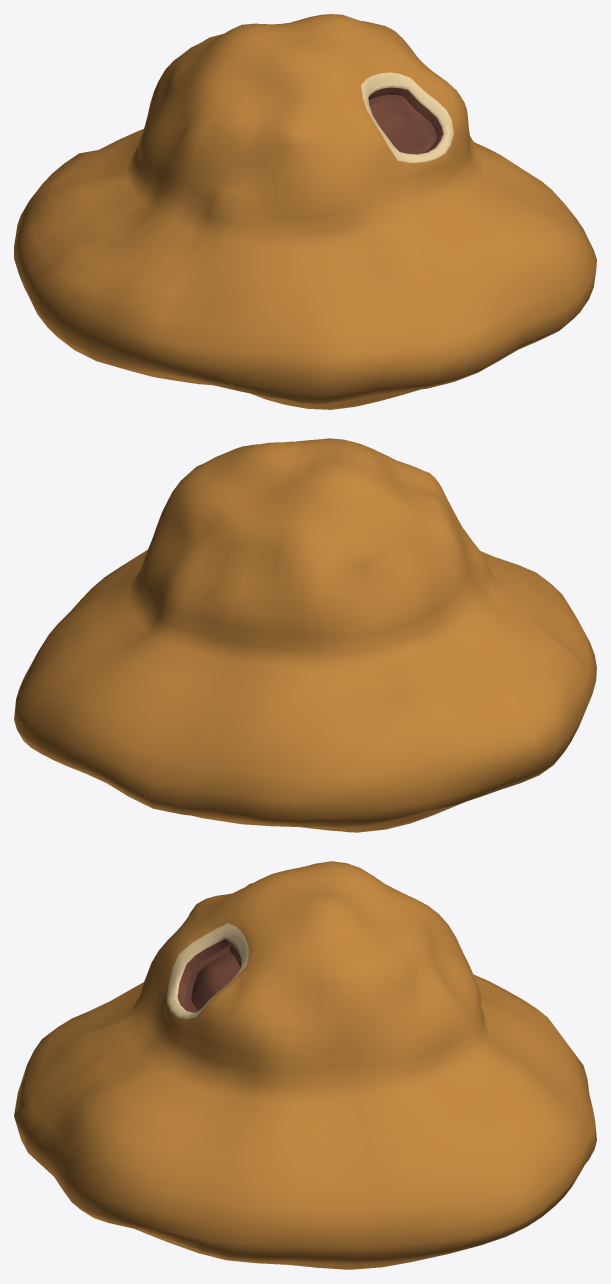
Rendered from koroke.fbx.
The picture shows the model from 3 angles, top to bottom: view 1: azimuth 30°, elevation 25°; view 2: azimuth 150°, elevation 25°; view 3: azimuth 270°, elevation 25°; orthographic projection.
Parts seen in each view (by area): view 1: pCube1; view 2: pCube1; view 3: pCube1.
Boxes of the visible parts, x1,y1,x2,y2 form: pCube1: (14,14,596,409); pCube1: (14,438,596,832); pCube1: (14,861,596,1269).
Size of the model in its own units: 115 by 74.42 by 116.
